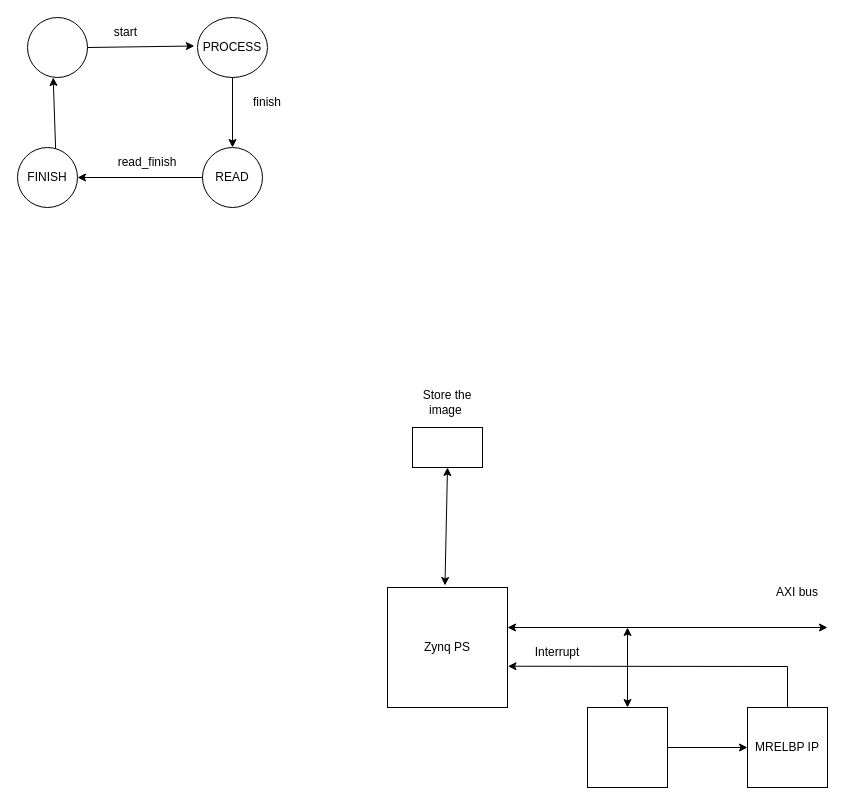
Image size: 854x805. Some labels were removed from this diagram. Each missing label, with the centre of its shape:
DDR: (447,447)
DMA Controller: (627,747)
IDLE: (57,47)
